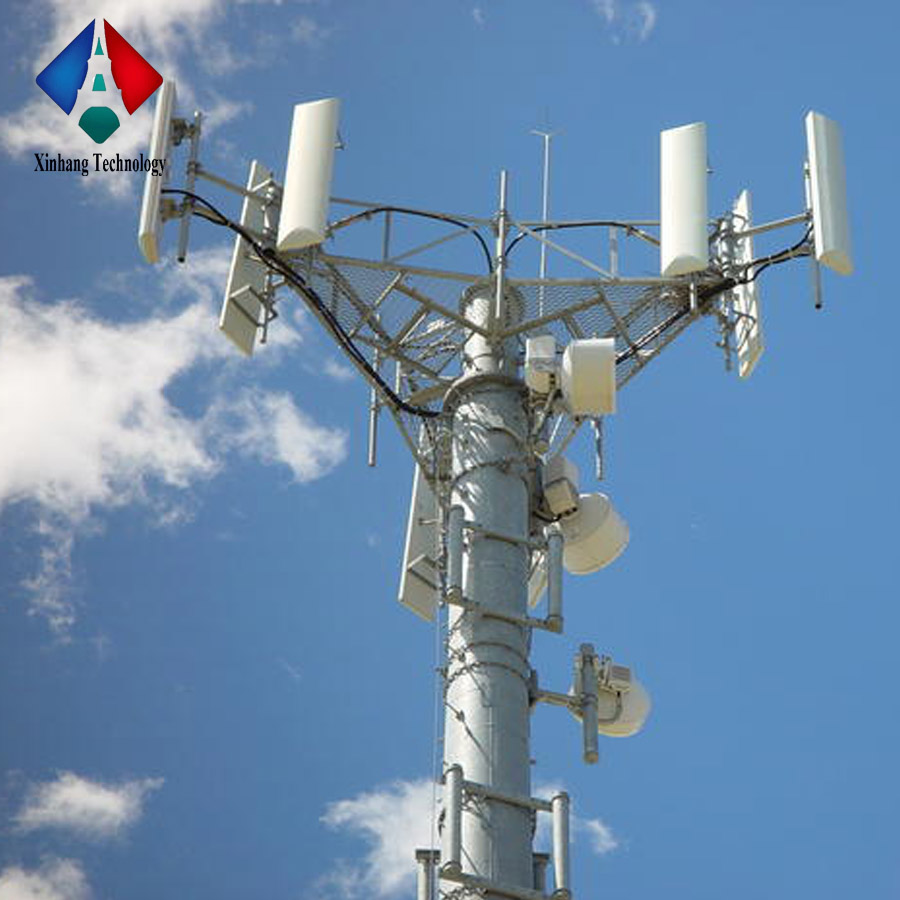a: (271, 97, 342, 250), (723, 192, 781, 376), (218, 157, 270, 360), (804, 106, 865, 278), (657, 124, 715, 276), (134, 87, 181, 268), (398, 465, 435, 622)
b: (554, 492, 635, 577), (559, 332, 629, 429)
